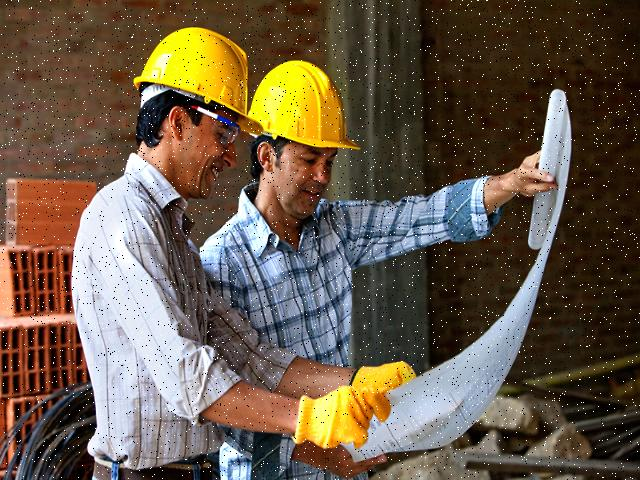Helmet: (128, 18, 266, 148), (244, 57, 368, 169)
